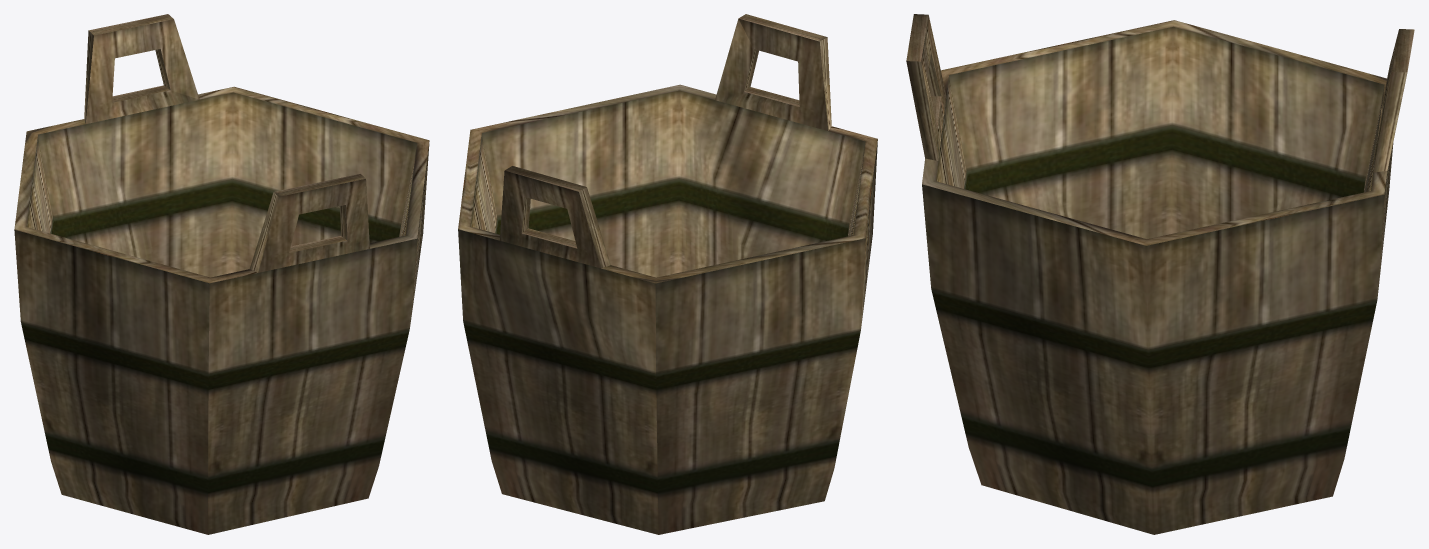
File: washtub.fbx
3 views of the same model, side by side, from view 1: azimuth 30°, elevation 25°; view 2: azimuth 150°, elevation 25°; view 3: azimuth 270°, elevation 25° (orthographic). The views are drawn at different scales.
Visible parts, largest first — view 1: lod_high; view 2: lod_high; view 3: lod_high.
Boxes of the visible parts, left/top/right/bottom form: lod_high: left=14, top=14, right=429, bottom=534; lod_high: left=458, top=14, right=877, bottom=534; lod_high: left=906, top=14, right=1414, bottom=534.
Size of the model in its own units: 304 by 254 by 290.
Materials: 1 (1 with a texture image).
